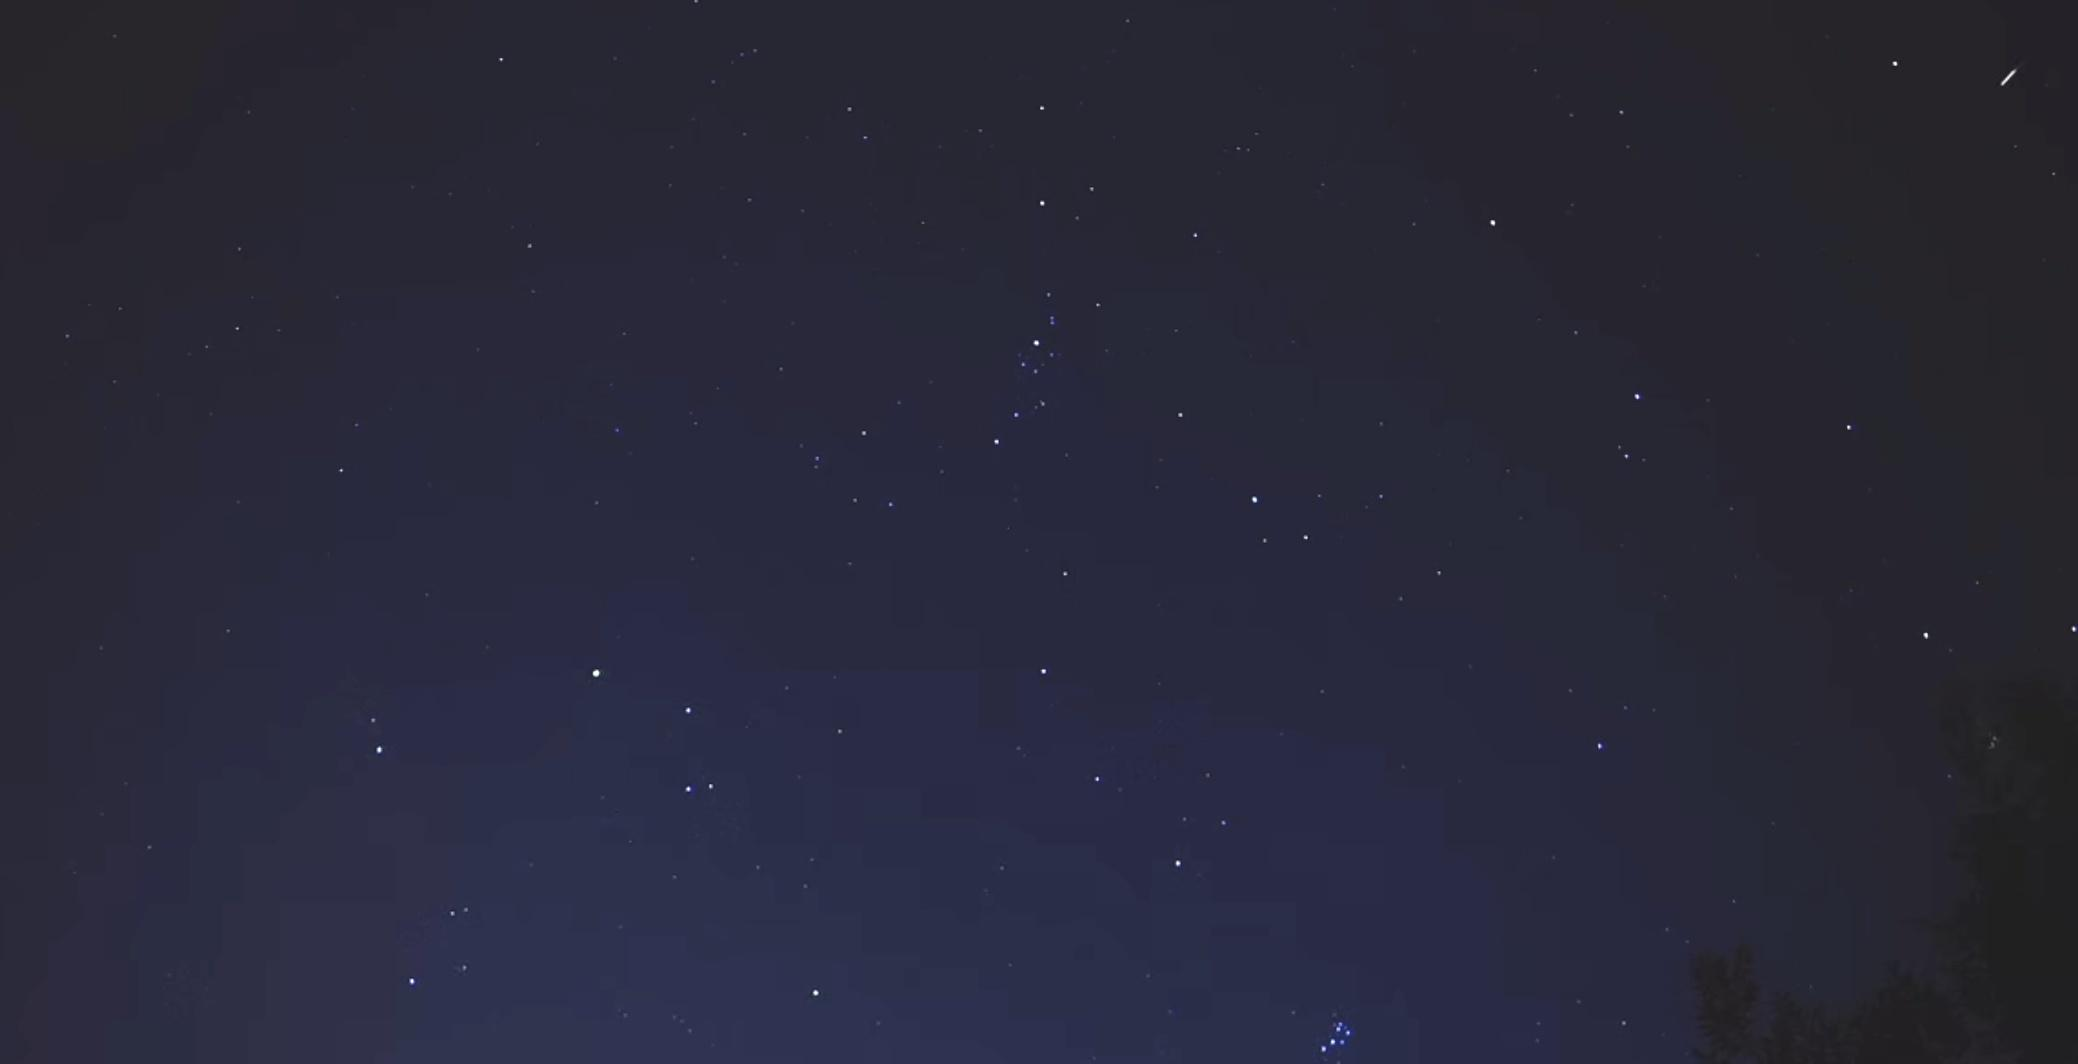meteorite: (1959, 53, 2058, 96)
